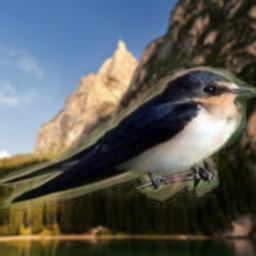Swallow: (0, 66, 256, 209)
